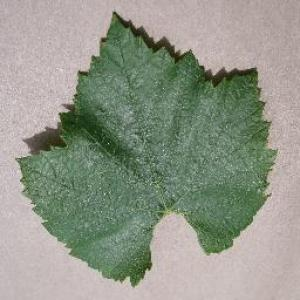Folha: (14, 9, 278, 287)
